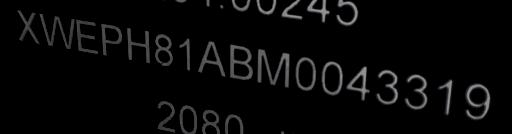letter: (459, 78, 495, 125), (254, 45, 292, 89), (37, 9, 75, 52), (402, 69, 434, 112), (344, 59, 374, 104), (195, 36, 227, 78), (371, 66, 401, 107), (124, 24, 152, 65), (434, 72, 458, 119), (319, 57, 345, 99), (14, 7, 42, 46), (228, 41, 254, 81), (292, 53, 318, 93), (74, 17, 100, 56), (100, 20, 124, 61), (152, 30, 176, 67), (175, 34, 195, 72)
